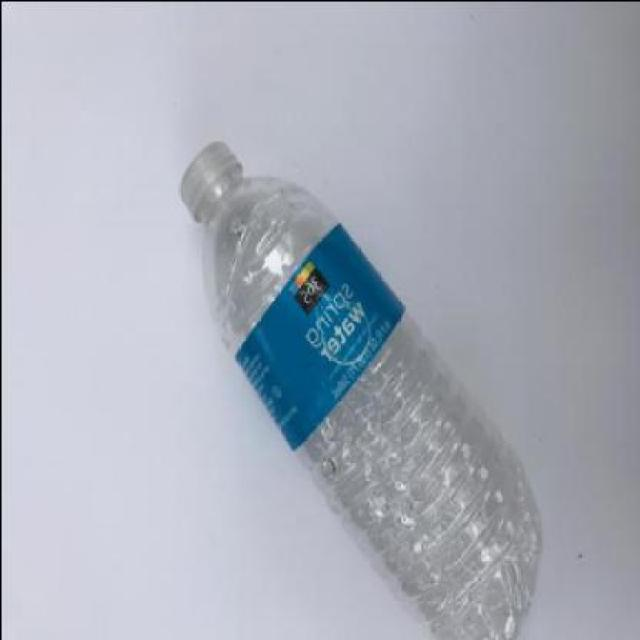PLASTIC: (174, 140, 540, 638), (231, 222, 403, 452), (175, 140, 239, 223)
